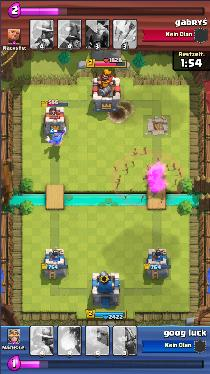ally_arrow: (111, 149, 185, 208)
ally_knight: (45, 127, 66, 146)
